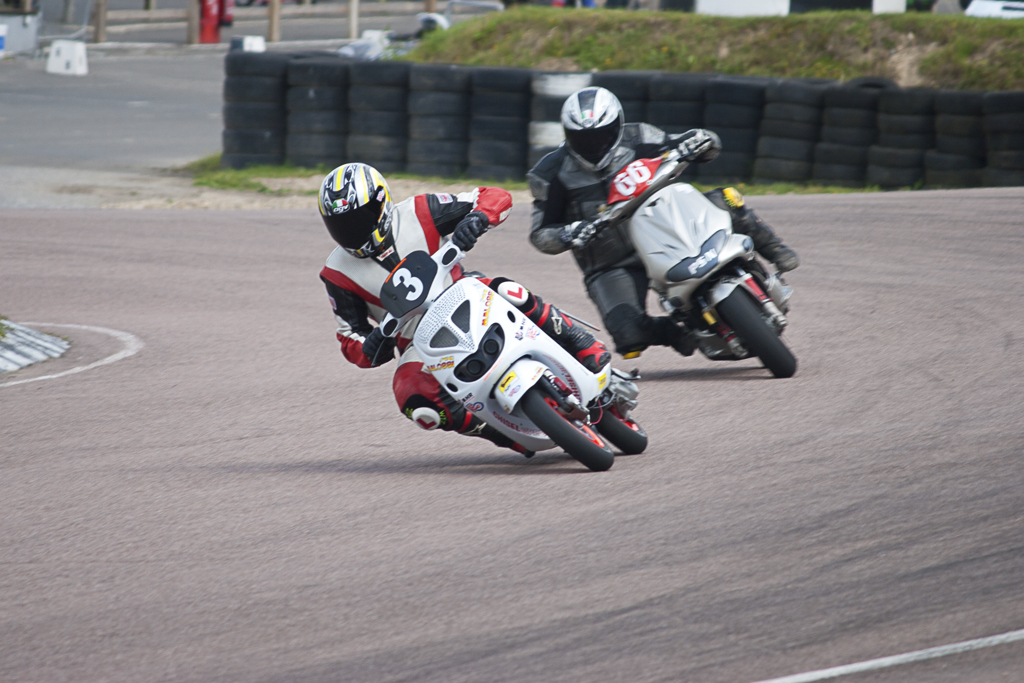Person: (318, 163, 612, 457), (524, 84, 798, 357)
